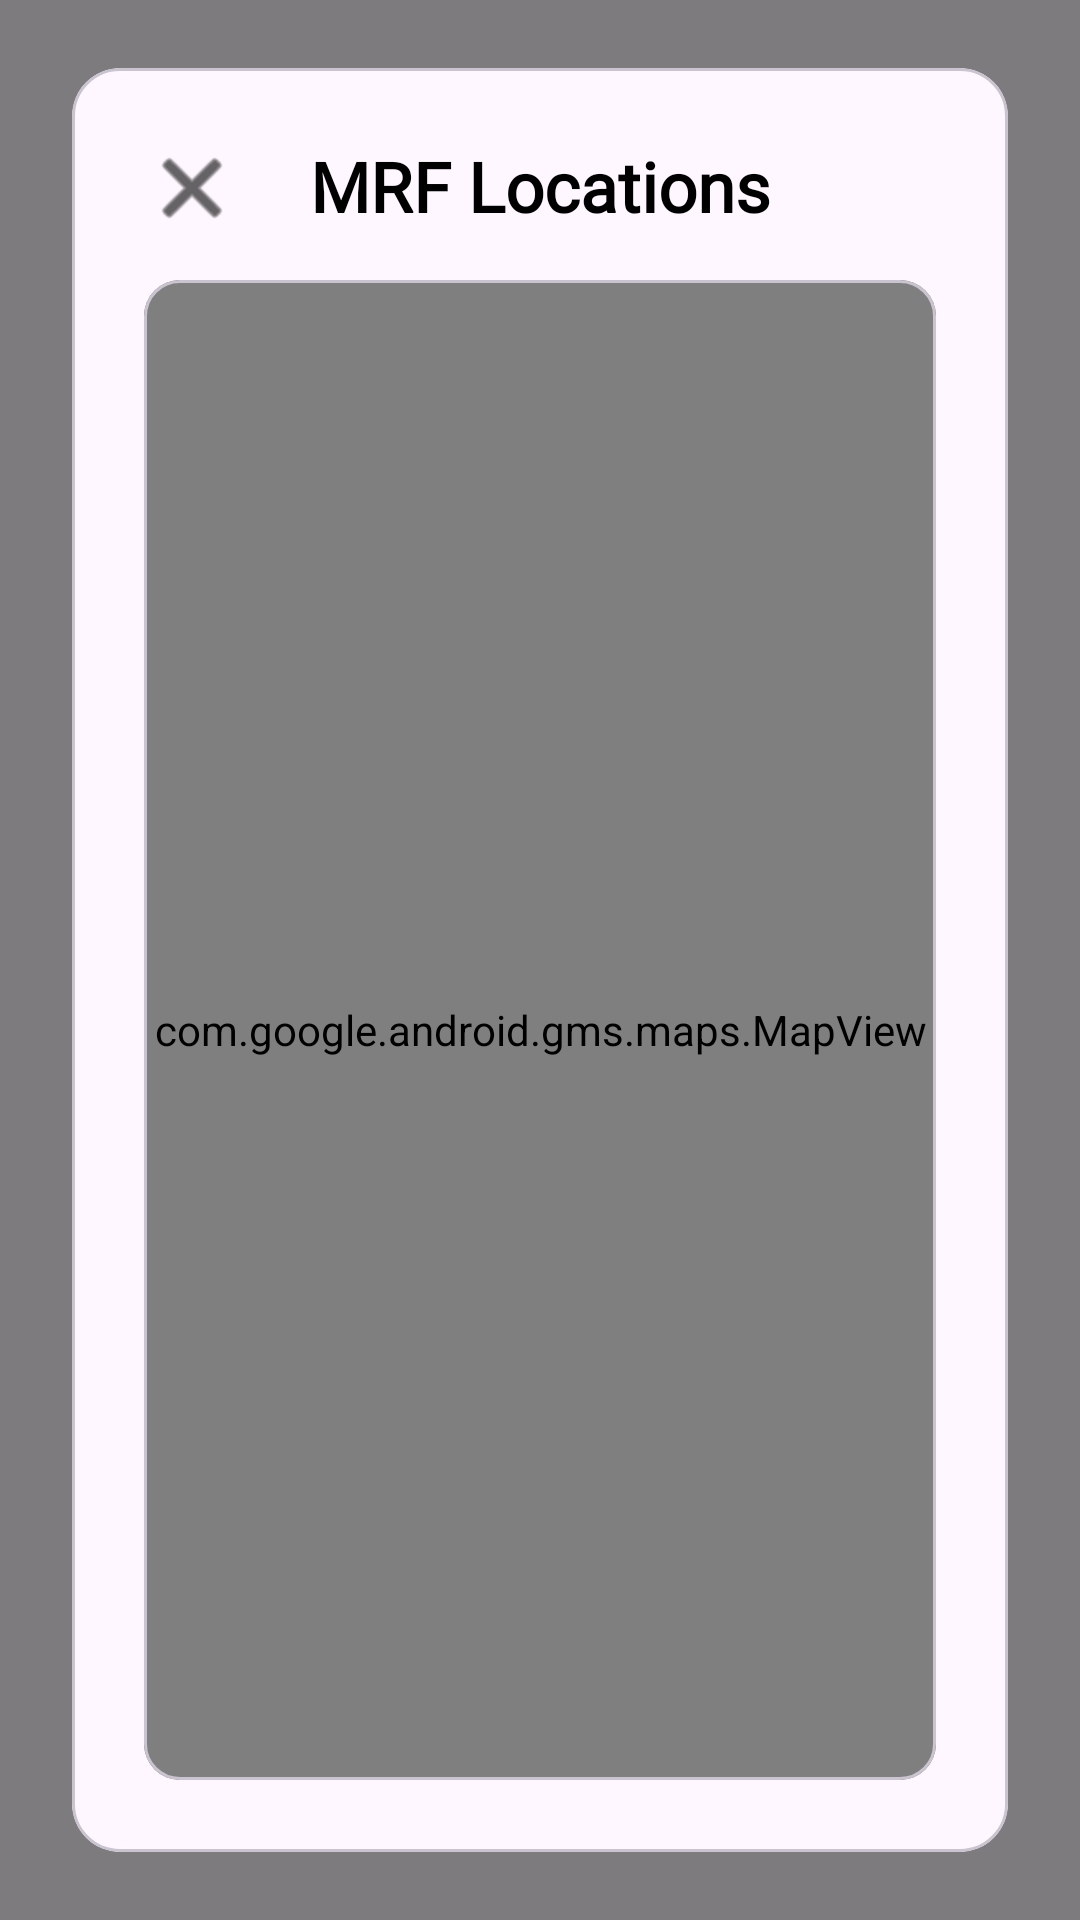

Icon bounding boxes for this 1080*1920 phone screenshot, format Rect(x1, y1, x2, y2):
Close: Rect(162, 158, 222, 218)
